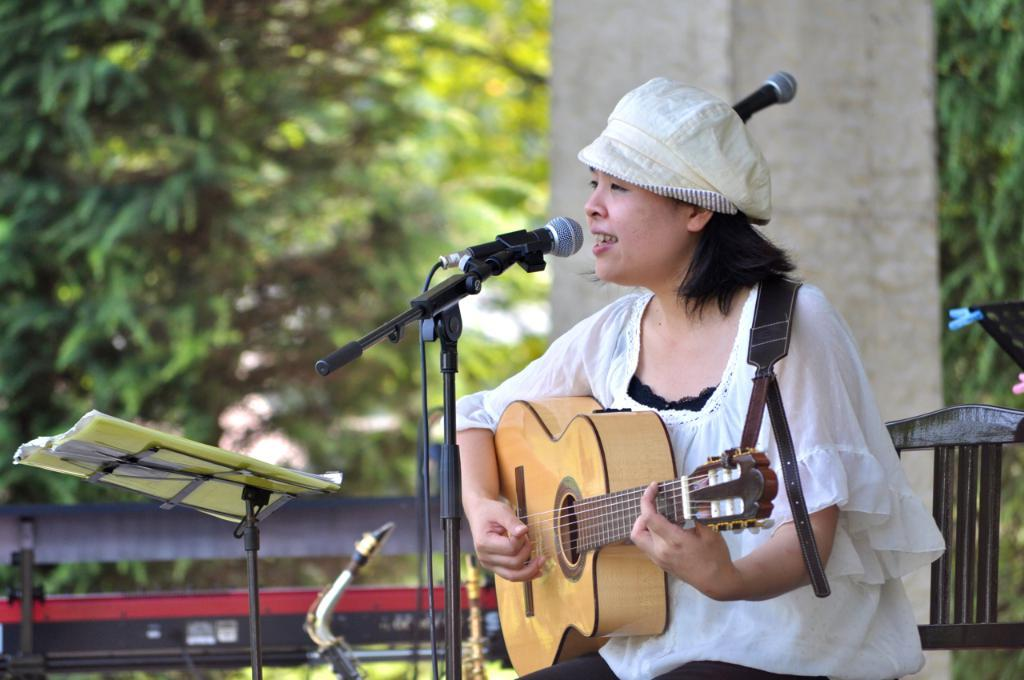Hat: (578, 73, 772, 226)
